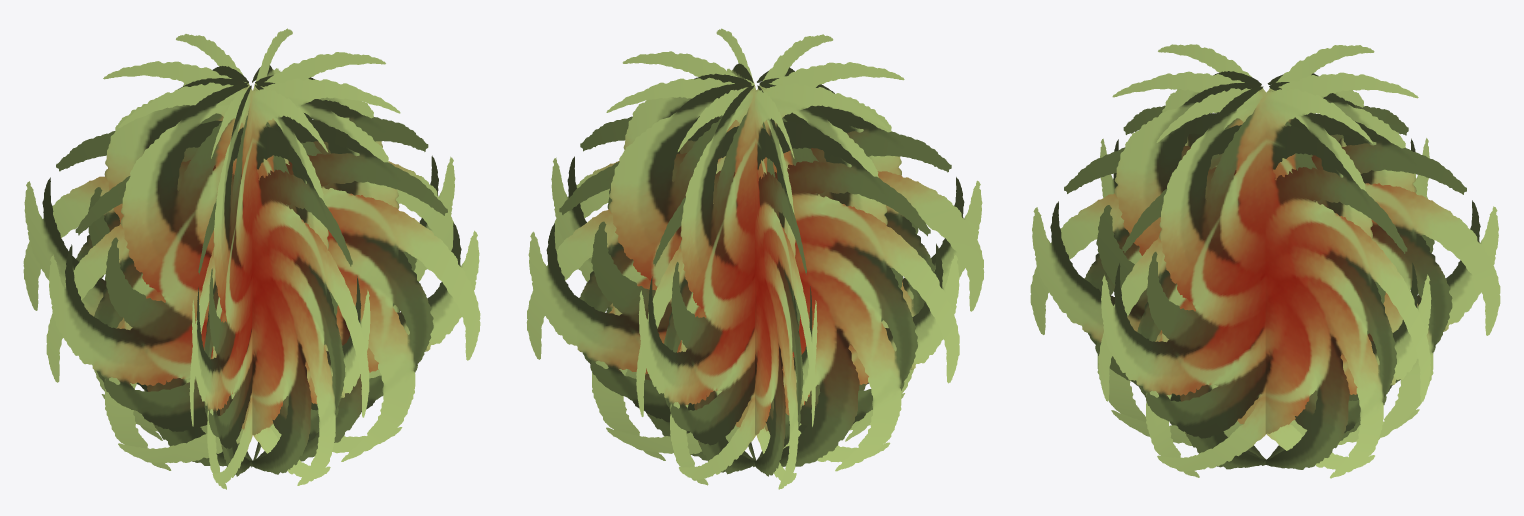
Rendered from HP3_weed064.fbx.
The picture shows the model from 3 angles, left to right: view 1: azimuth 30°, elevation 25°; view 2: azimuth 150°, elevation 25°; view 3: azimuth 270°, elevation 25°; orthographic projection.
Visible parts, largest first — view 1: HP3_weed064; view 2: HP3_weed064; view 3: HP3_weed064.
Boxes of the visible parts, <box> form: HP3_weed064: <box>23,28,480,489</box>; HP3_weed064: <box>526,28,984,489</box>; HP3_weed064: <box>1030,44,1500,478</box>.
Size of the model in its own units: 7.5 by 7.1 by 7.5.
